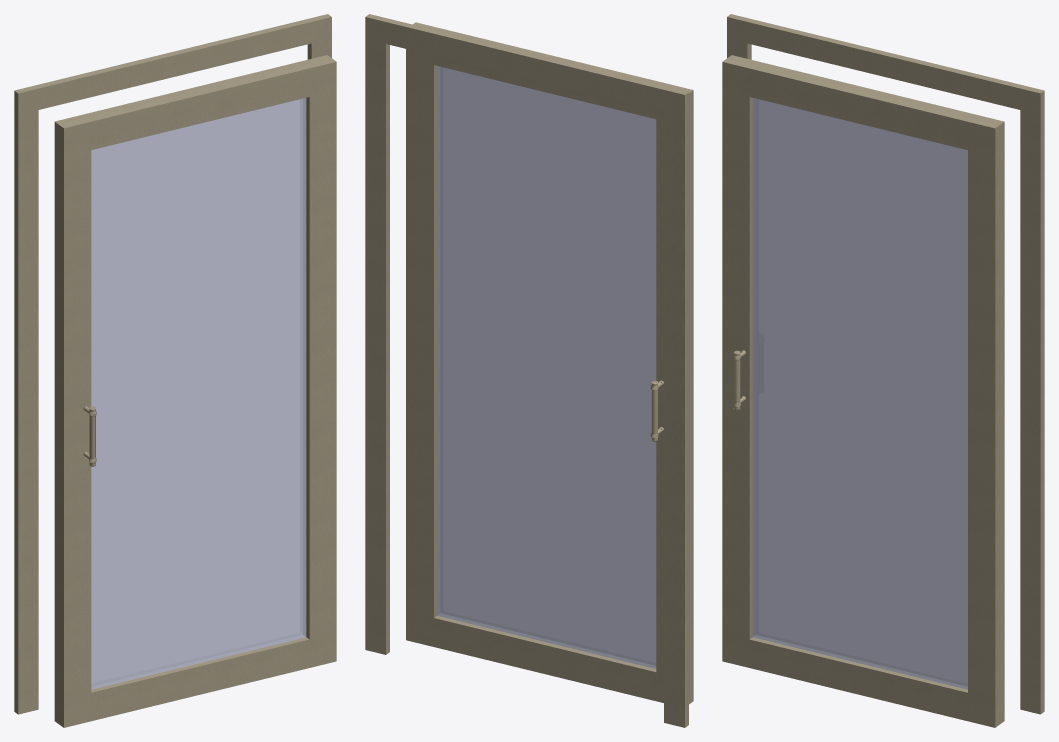
File: c45f7edd-d3fd-4f5b-97b2-75a87565d2d1.glb
The picture shows the model from 3 angles, left to right: view 1: azimuth 30°, elevation 25°; view 2: azimuth 150°, elevation 25°; view 3: azimuth 330°, elevation 25°; orthographic projection.
Parts seen in each view (by area): view 1: HCM1021(FM1021乙) [584736][834aa808-c3cd-45e7-9e70-c0a3274fb2; view 2: HCM1021(FM1021乙) [584736][834aa808-c3cd-45e7-9e70-c0a3274fb2; view 3: HCM1021(FM1021乙) [584736][834aa808-c3cd-45e7-9e70-c0a3274fb2.
Part boxes in pixels (x1,y1,x2,y2): HCM1021(FM1021乙) [584736][834aa808-c3cd-45e7-9e70-c0a3274fb2: (14, 14, 336, 727); HCM1021(FM1021乙) [584736][834aa808-c3cd-45e7-9e70-c0a3274fb2: (365, 14, 693, 727); HCM1021(FM1021乙) [584736][834aa808-c3cd-45e7-9e70-c0a3274fb2: (722, 14, 1044, 727).
Bounding box in the file's own units: 1.15 × 2.17 × 0.2423.
2 materials, 1 textured.
